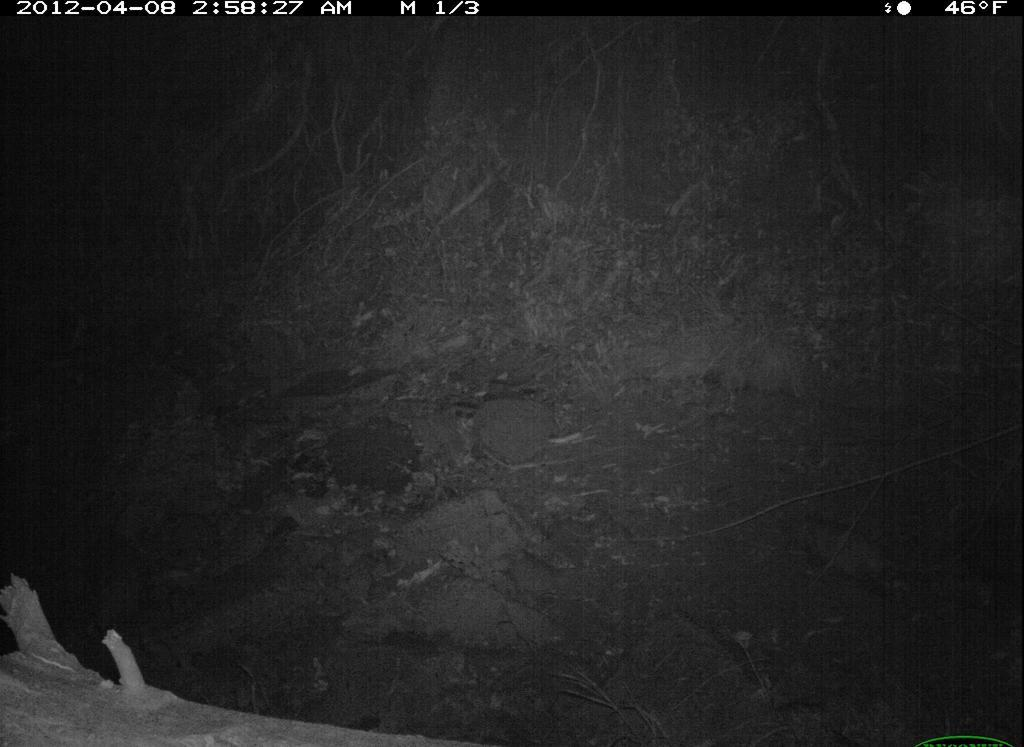opossum: (787, 508, 946, 597)
